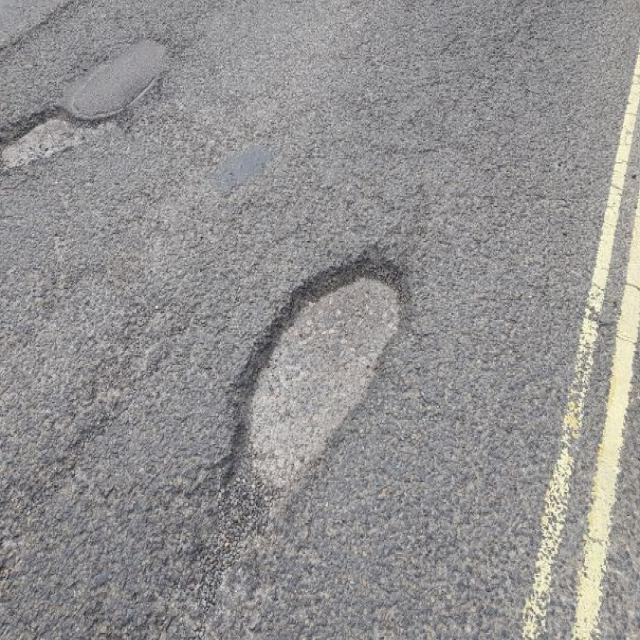Pothole: (209, 244, 419, 523), (1, 93, 135, 167)
